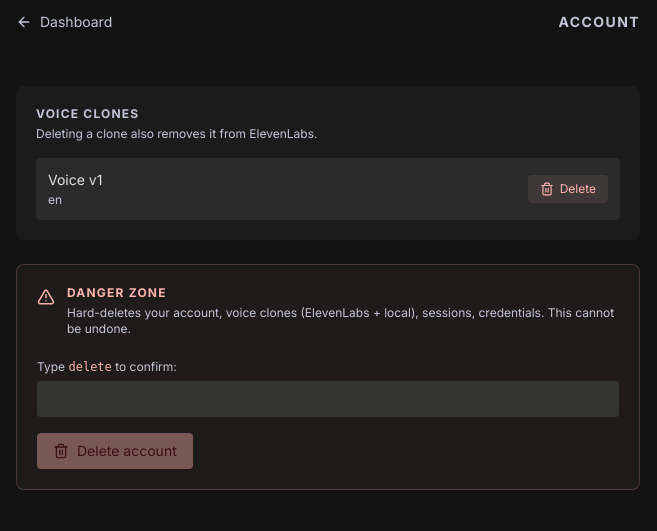
Test: SettingsPage › surfaces 409 from deleteVoice as a row-scoped banner (sad)
The width and height of the screenshot is (657, 531).
Expected: the text "Voice v1" is shown, x1=48 y1=170 x2=102 y2=190
Click the button with test id "voice-delete-v1": point(568, 189) x1=528 y1=175 x2=608 y2=203
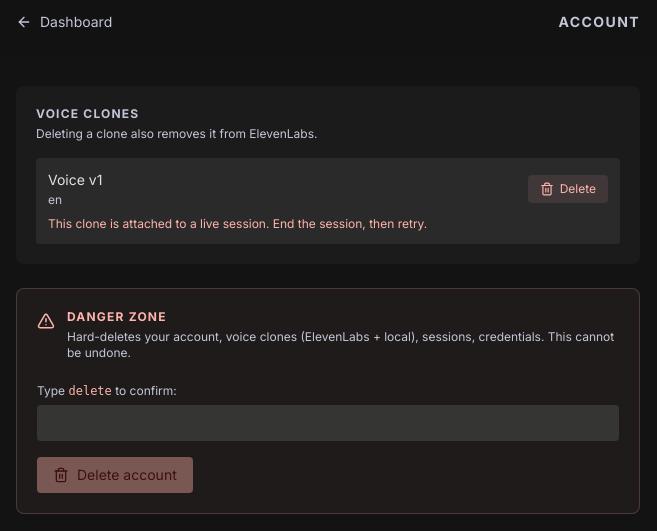
Expected: the text "Voice v1" is shown, x1=48 y1=170 x2=102 y2=190
Expected: the text "attached to a live session" is shown, x1=48 y1=216 x2=427 y2=231
